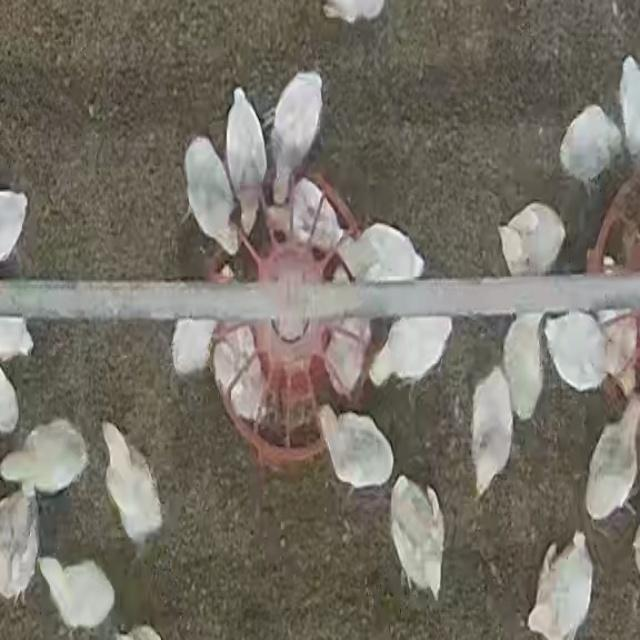chicken: (101, 422, 164, 552), (270, 64, 325, 196), (316, 401, 397, 488), (529, 533, 595, 639), (390, 476, 445, 602), (184, 134, 240, 256), (584, 401, 638, 519), (225, 88, 269, 228), (2, 421, 88, 491), (368, 316, 453, 386), (469, 370, 514, 499), (39, 557, 115, 631), (328, 266, 373, 388), (559, 104, 620, 192), (336, 223, 430, 280), (492, 205, 566, 274), (544, 311, 604, 394), (288, 177, 344, 256), (504, 315, 545, 419), (212, 330, 257, 422)
